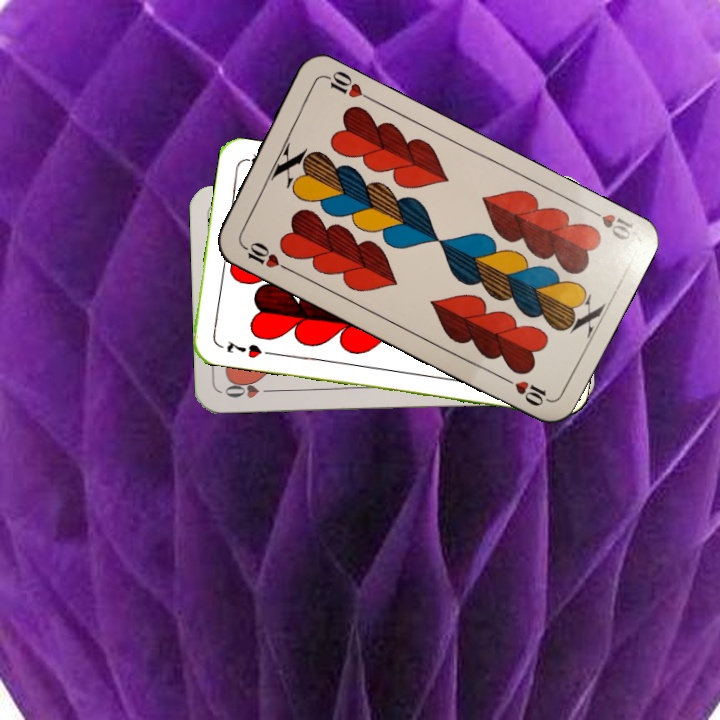H10: (582, 203, 636, 247), (237, 237, 292, 273)
H7: (223, 337, 264, 361)
HO: (220, 377, 278, 401)
